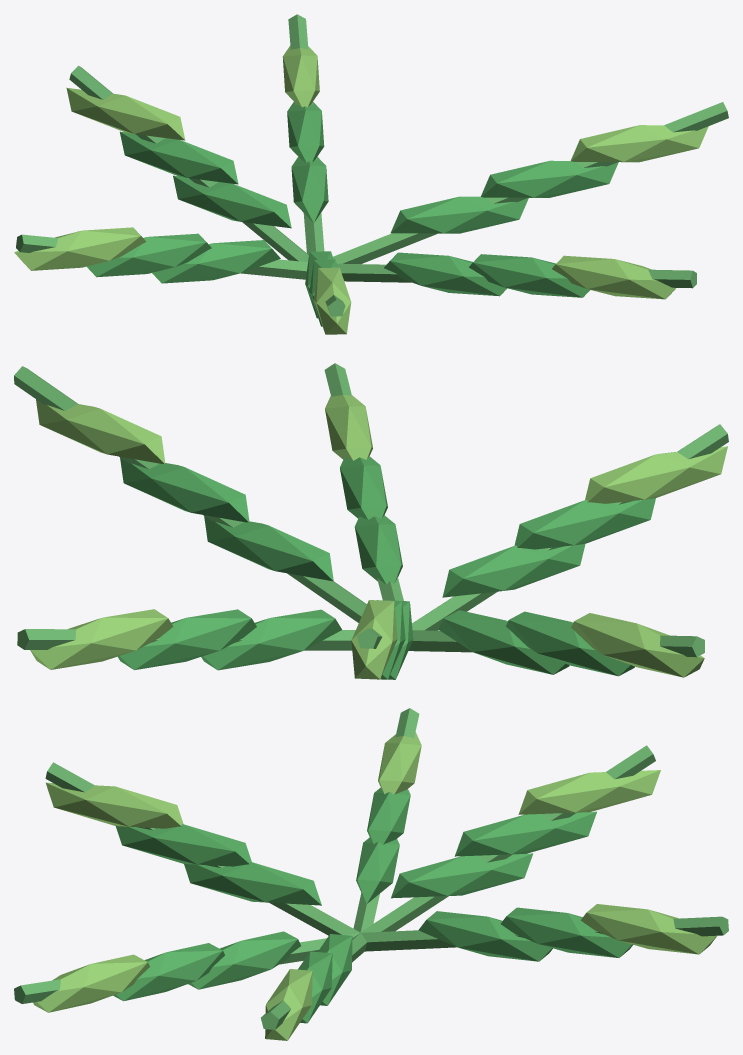
Rendered from fern_a.glb.
3 views of the same model, one above another, from view 1: azimuth 30°, elevation 25°; view 2: azimuth 150°, elevation 25°; view 3: azimuth 270°, elevation 25° (orthographic). The views are drawn at different scales.
Parts seen in each view (by area): view 1: Leaf_1_1, Leaf_1_3, Leaf_1_2, Leaf_4_3, Leaf_6_3, Leaf_3_3, Leaf_3_1, Leaf_3_2, Leaf_6_1, Leaf_6_2, Leaf_4_1, Leaf_4_2 (+9 smaller); view 2: Leaf_5_3, Leaf_5_1, Leaf_5_2, Leaf_2_3, Leaf_1_1, Leaf_1_3, Leaf_1_2, Leaf_2_1, Leaf_2_2, Leaf_4_3, Leaf_4_1, Leaf_4_2 (+11 smaller); view 3: Leaf_3_3, Leaf_3_2, Leaf_3_1, Leaf_5_3, Leaf_5_1, Leaf_5_2, Leaf_2_3, Leaf_2_1, Leaf_2_2, Leaf_6_3, Leaf_6_1, Leaf_6_2 (+12 smaller).
Boxes of the visible parts, bbox=[...] form: Leaf_1_1: bbox=[390, 196, 528, 233]; Leaf_1_3: bbox=[570, 125, 708, 162]; Leaf_1_2: bbox=[481, 160, 618, 197]; Leaf_4_3: bbox=[14, 227, 146, 270]; Leaf_6_3: bbox=[552, 255, 675, 299]; Leaf_3_3: bbox=[66, 87, 185, 140]; Leaf_3_1: bbox=[173, 175, 291, 228]; Leaf_3_2: bbox=[120, 131, 238, 184]; Leaf_6_1: bbox=[384, 252, 506, 296]; Leaf_6_2: bbox=[469, 254, 589, 297]; Leaf_4_1: bbox=[152, 240, 280, 283]; Leaf_4_2: bbox=[86, 233, 211, 277]; Leaf_5_3: bbox=[585, 446, 727, 503]; Leaf_5_1: bbox=[442, 543, 585, 597]; Leaf_5_2: bbox=[514, 498, 655, 549]; Leaf_2_3: bbox=[30, 609, 173, 669]; Leaf_1_1: bbox=[204, 516, 333, 581]; Leaf_1_3: bbox=[36, 399, 165, 463]; Leaf_1_2: bbox=[120, 457, 249, 522]; Leaf_2_1: bbox=[201, 609, 341, 670]; Leaf_2_2: bbox=[118, 609, 256, 670]; Leaf_4_3: bbox=[571, 613, 704, 677]; Leaf_4_1: bbox=[438, 610, 569, 674]; Leaf_4_2: bbox=[506, 611, 634, 676]; Leaf_3_3: bbox=[518, 770, 660, 814]; Leaf_3_2: bbox=[454, 811, 596, 856]; Leaf_3_1: bbox=[391, 853, 533, 898]; Leaf_5_3: bbox=[46, 782, 183, 828]; Leaf_5_1: bbox=[184, 862, 321, 905]; Leaf_5_2: bbox=[115, 824, 251, 866]; Leaf_2_3: bbox=[580, 904, 716, 954]; Leaf_2_1: bbox=[418, 911, 552, 961]; Leaf_2_2: bbox=[500, 907, 632, 957]; Leaf_6_3: bbox=[33, 954, 149, 1012]; Leaf_6_1: bbox=[188, 931, 300, 989]; Leaf_6_2: bbox=[113, 943, 224, 1001].
Size of the model in its own units: 2.01 by 0.4156 by 1.8.
